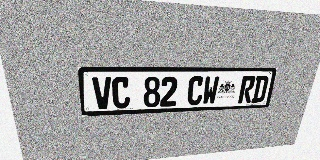2: (160, 76, 178, 107)
8: (143, 76, 161, 107)
C: (112, 77, 130, 109), (187, 76, 205, 105)
D: (251, 76, 269, 103)
R: (238, 76, 256, 103)
V: (92, 77, 112, 110)
W: (202, 76, 220, 105)
